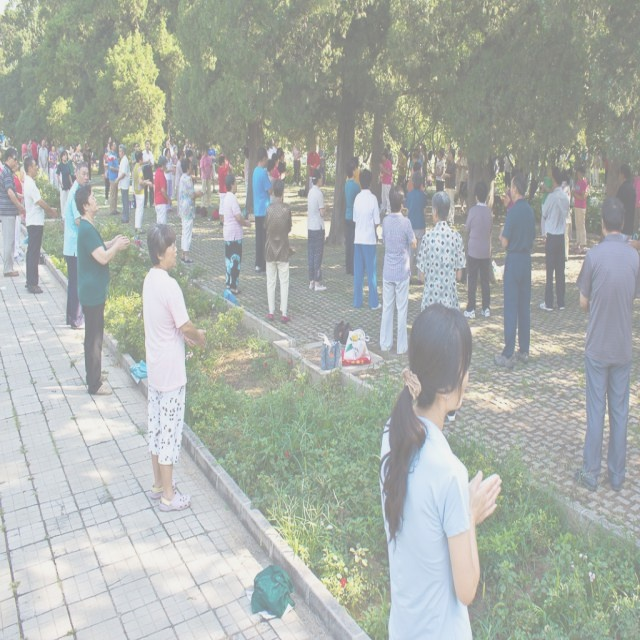pessoa: (374, 300, 504, 640), (140, 222, 208, 516), (574, 194, 640, 495), (72, 181, 132, 397), (492, 172, 537, 370), (378, 182, 418, 356), (415, 190, 467, 313), (22, 153, 59, 294), (351, 167, 384, 312), (62, 160, 90, 330), (538, 168, 570, 314), (461, 178, 493, 321), (262, 177, 292, 324), (220, 172, 252, 297), (251, 146, 277, 278), (0, 147, 26, 279), (177, 156, 205, 266), (306, 168, 330, 292), (404, 170, 428, 285), (501, 173, 526, 272), (344, 164, 362, 276), (573, 138, 611, 190), (132, 148, 154, 235), (614, 163, 637, 246), (570, 162, 589, 255), (10, 156, 26, 262), (152, 154, 174, 226), (114, 142, 132, 223), (56, 149, 74, 223), (106, 140, 122, 216), (558, 168, 574, 241), (140, 139, 156, 210), (560, 168, 572, 262), (538, 170, 554, 238), (217, 154, 231, 230), (198, 142, 214, 208), (378, 152, 393, 216), (502, 172, 524, 212), (306, 138, 322, 190), (458, 147, 470, 214), (494, 148, 512, 188), (164, 147, 177, 201), (174, 148, 184, 218), (345, 156, 364, 192), (206, 139, 218, 195), (396, 147, 408, 200), (102, 140, 111, 207), (632, 166, 640, 238), (48, 143, 59, 194), (20, 152, 30, 208), (276, 149, 292, 183), (186, 148, 200, 186), (130, 141, 140, 194), (433, 149, 445, 193), (317, 142, 328, 188), (70, 140, 84, 176), (65, 143, 77, 185), (290, 146, 302, 187), (512, 156, 534, 177), (267, 158, 277, 204), (410, 160, 424, 192), (626, 226, 640, 257), (408, 147, 424, 174), (170, 145, 178, 199), (243, 145, 250, 206), (455, 148, 463, 201), (444, 148, 454, 190), (38, 138, 49, 176), (83, 140, 92, 183), (188, 140, 198, 178), (464, 154, 470, 210), (266, 136, 280, 160), (421, 144, 428, 191), (270, 152, 281, 180), (194, 141, 202, 179), (53, 154, 61, 190), (558, 142, 571, 164), (426, 148, 433, 188), (162, 138, 175, 158), (30, 138, 39, 166), (44, 140, 51, 176), (0, 128, 11, 150), (169, 136, 179, 160), (104, 134, 116, 154), (400, 140, 410, 162), (182, 138, 192, 160), (21, 136, 30, 160), (416, 143, 426, 163), (385, 142, 393, 164), (90, 150, 98, 168), (0, 148, 5, 175), (410, 151, 420, 164), (27, 138, 32, 158), (565, 175, 571, 188), (226, 156, 232, 168), (383, 147, 388, 157), (36, 140, 42, 148)
